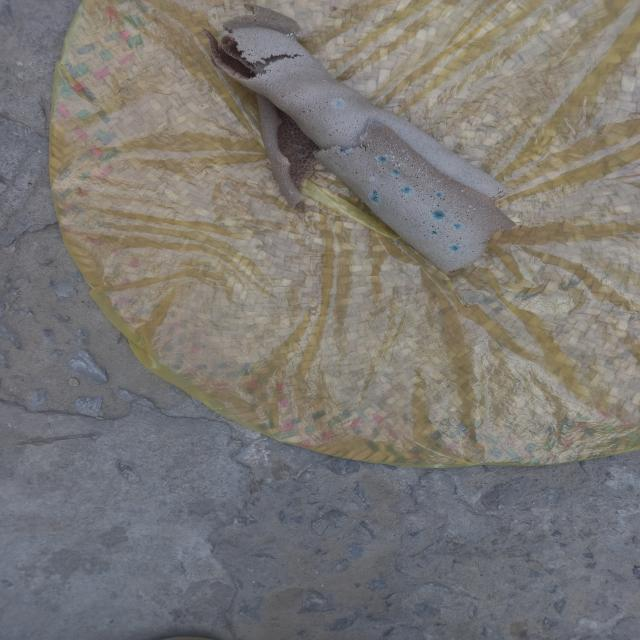injera_mold: (334, 145, 353, 156), (330, 98, 344, 109), (368, 190, 380, 202), (432, 211, 444, 221), (369, 118, 382, 126), (448, 244, 461, 251), (402, 185, 412, 194), (377, 154, 388, 162), (390, 168, 400, 176), (359, 132, 368, 140), (429, 230, 440, 236), (453, 224, 463, 230), (393, 162, 407, 166), (389, 154, 398, 160), (399, 148, 407, 154), (368, 176, 376, 182), (286, 32, 294, 37), (435, 192, 441, 198), (436, 178, 442, 184), (386, 150, 395, 154), (287, 189, 294, 194), (448, 176, 452, 184), (404, 156, 412, 160), (420, 163, 426, 167), (472, 207, 476, 213), (368, 140, 374, 144), (465, 210, 470, 214), (468, 205, 472, 209), (365, 145, 370, 147), (461, 190, 464, 192)
